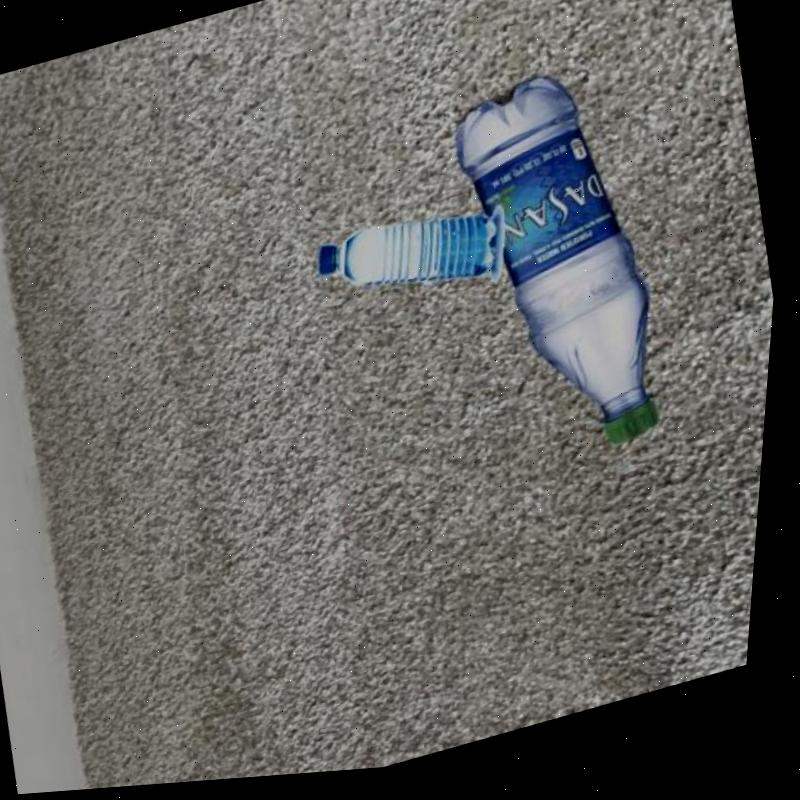botella: (429, 61, 696, 492), (314, 198, 513, 327)
